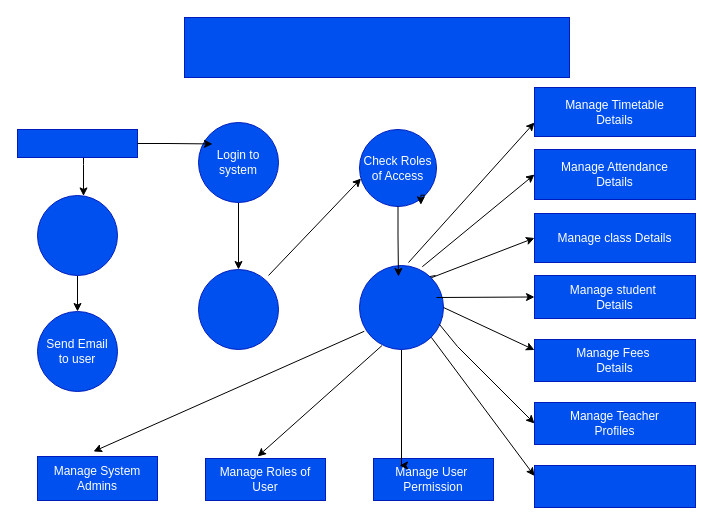
Some shapes in this 713 by 525 pixel diagram are drawn without their labels. Here are the shapes that lost their labels. From the top down, the box of each, then its label:
(184, 16, 570, 78): student information system
(16, 128, 138, 158): Admin
(36, 194, 118, 276): Forget Password
(198, 268, 278, 350): check credentials
(358, 264, 444, 350): Manage Modules
